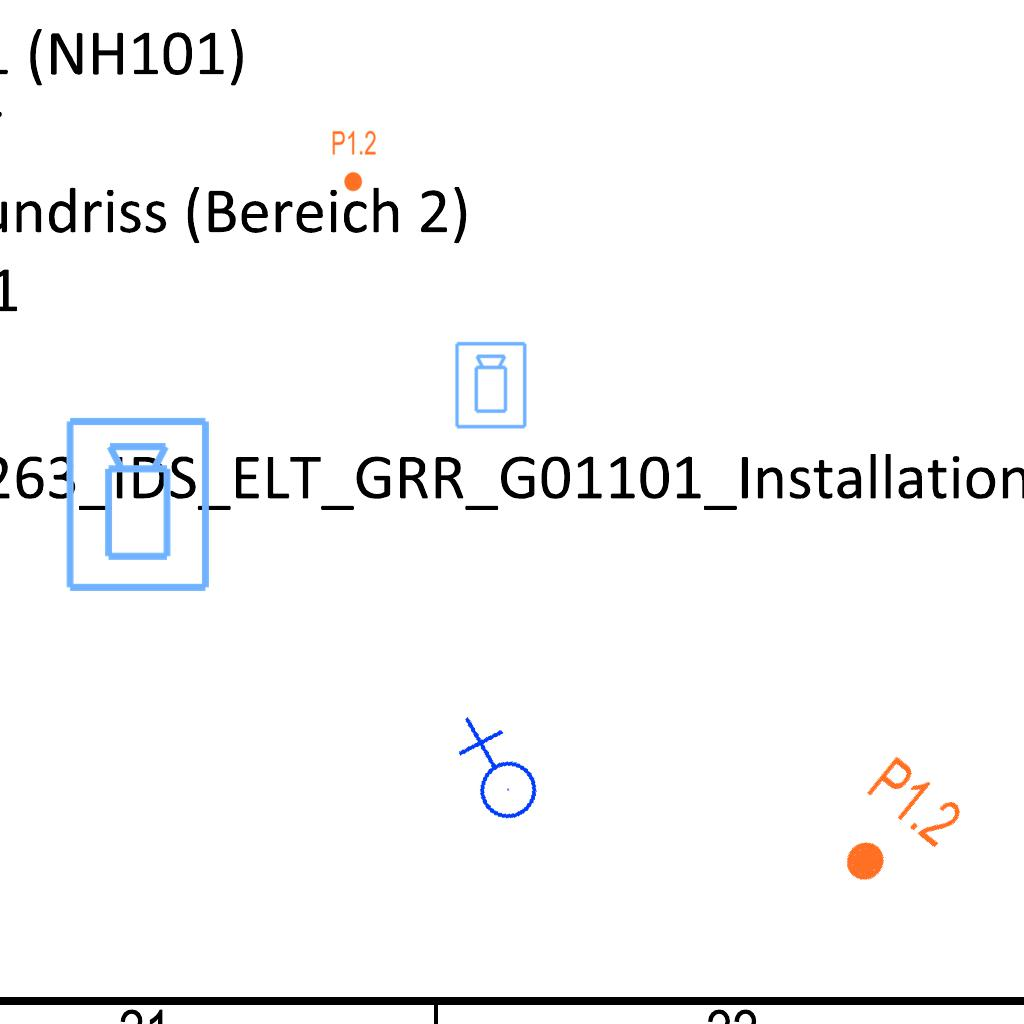Downlight_LED_Einbauleuchten_Flur: (816, 750, 969, 910), (331, 129, 377, 193)
Elektroanschluss_allgemein_230V_Geraeteanschlussdose_230V: (436, 714, 553, 834)
KFO_Kamera_mit_Festobjektiv: (62, 414, 216, 596), (453, 340, 530, 431)
